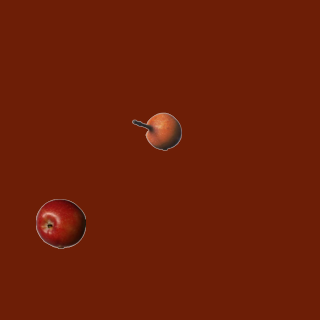Apple Braeburn: (35, 198, 85, 248)
Granadilla: (131, 106, 181, 156)
